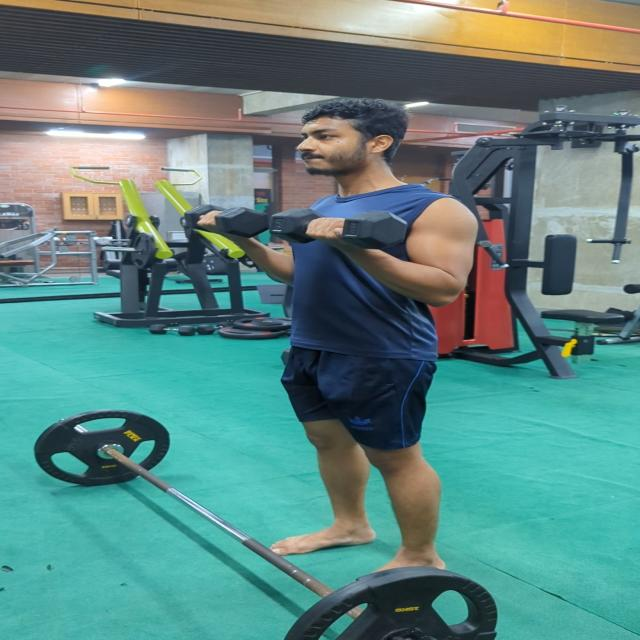Normal_DumbbellBicepCurls: (182, 96, 480, 580)
